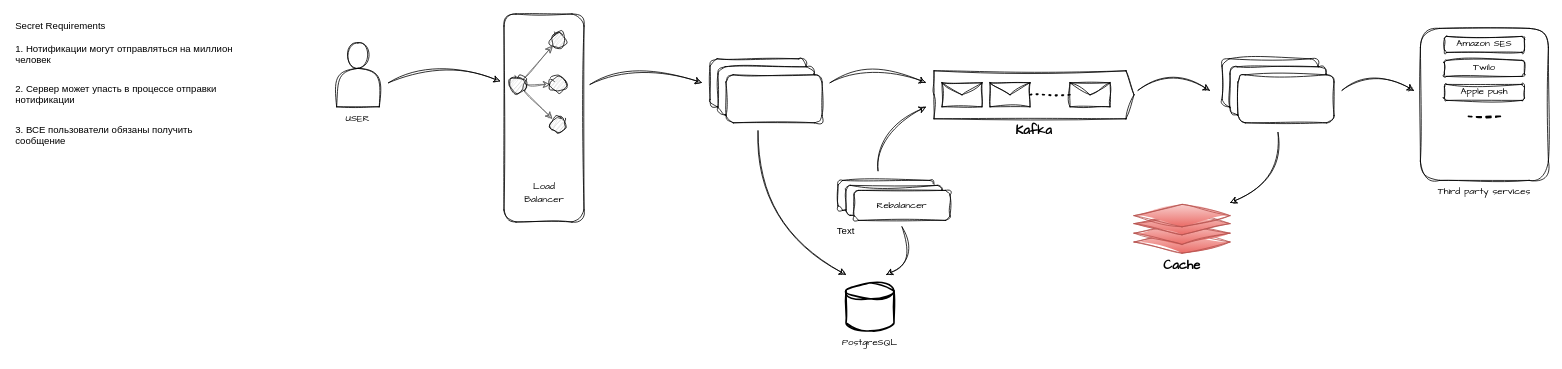
The diagram is 1562 pixels wide and 369 high, and some of its shapes have lost their labels. Here are the shapes that lost their labels. From the top down, the centre of each, then its label:
At point (773, 98): "API Services".
At point (1285, 98): "Worker".
